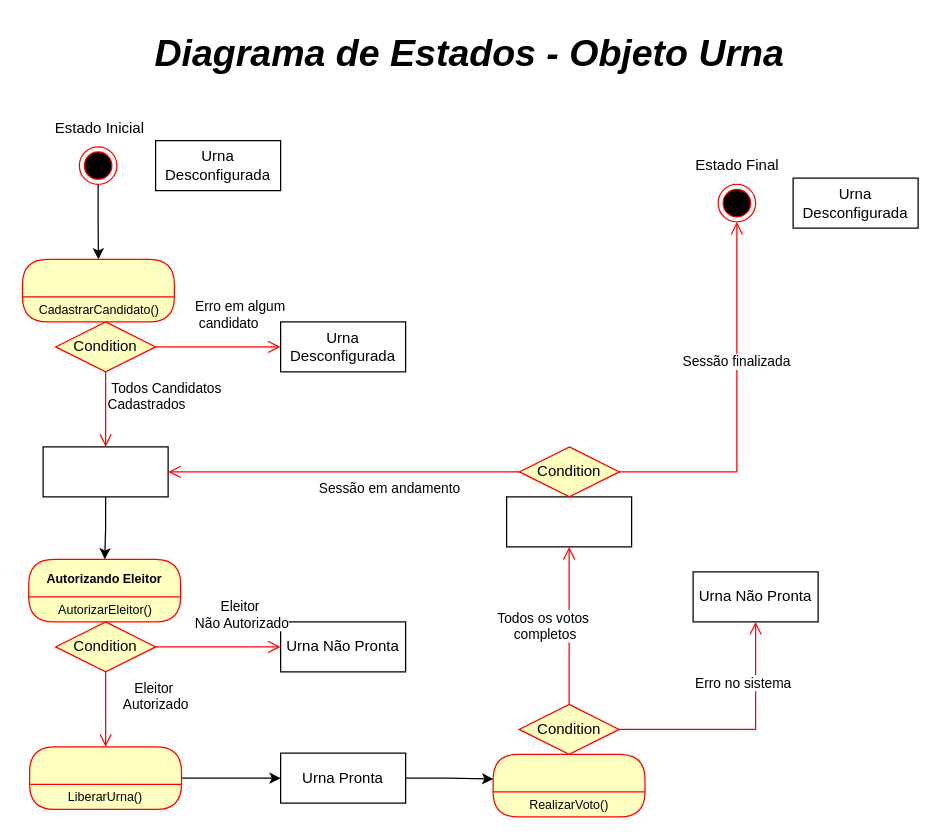
Some shapes in this 940 by 839 pixel diagram are drawn without their labels. Here are the shapes that lost their labels. From the top down, the box of each, then its label:
(21, 258, 174, 322): Cadastrando
(42, 446, 168, 497): Urna Configurada
(505, 496, 632, 547): Urna Desabilitada
(28, 746, 182, 809): Liberando Urna
(492, 753, 645, 817): Votando
